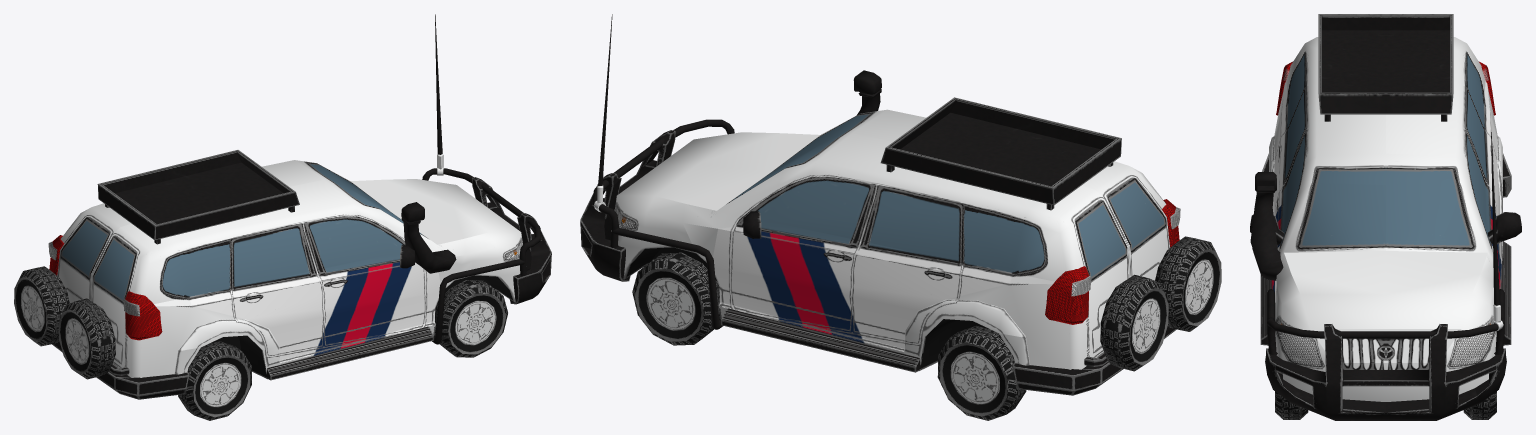
3 views of the same model, side by side, from view 1: azimuth 30°, elevation 25°; view 2: azimuth 150°, elevation 25°; view 3: azimuth 270°, elevation 25° (orthographic). The views are drawn at different scales.
Visible parts, largest first — view 1: Model_Toyota_Prado_Body, Model_Toyota_Prado_Front_Wheel_Left, Model_Toyota_Prado_Rear_Wheel_Left, Model_Toyota_Prado_Spare_Wheel_Left, Model_Toyota_Prado_Spare_Wheel_Right; view 2: Model_Toyota_Prado_Body, Model_Toyota_Prado_Front_Wheel_Right, Model_Toyota_Prado_Rear_Wheel_Right, Model_Toyota_Prado_Spare_Wheel_Right, Model_Toyota_Prado_Spare_Wheel_Left; view 3: Model_Toyota_Prado_Body, Model_Toyota_Prado_Front_Wheel_Left, Model_Toyota_Prado_Front_Wheel_Right.
Boxes of the visible parts, x1,y1,x2,y2 form: Model_Toyota_Prado_Body: (48, 14, 551, 399); Model_Toyota_Prado_Front_Wheel_Left: (434, 280, 507, 357); Model_Toyota_Prado_Rear_Wheel_Left: (178, 341, 251, 420); Model_Toyota_Prado_Spare_Wheel_Left: (58, 298, 129, 379); Model_Toyota_Prado_Spare_Wheel_Right: (14, 266, 69, 346); Model_Toyota_Prado_Body: (580, 14, 1180, 395); Model_Toyota_Prado_Front_Wheel_Right: (632, 252, 720, 345); Model_Toyota_Prado_Rear_Wheel_Right: (937, 326, 1026, 420); Model_Toyota_Prado_Spare_Wheel_Right: (1084, 274, 1168, 371); Model_Toyota_Prado_Spare_Wheel_Left: (1155, 236, 1221, 331); Model_Toyota_Prado_Body: (1250, 14, 1521, 420); Model_Toyota_Prado_Front_Wheel_Left: (1275, 391, 1308, 419); Model_Toyota_Prado_Front_Wheel_Right: (1463, 391, 1496, 419).
Size of the model in its own units: 8.19 by 4.43 by 3.49.
